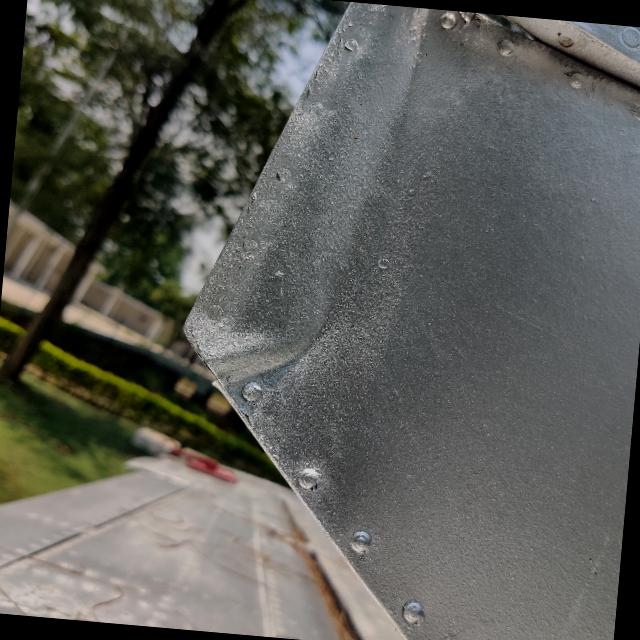dent: (187, 291, 338, 429)
